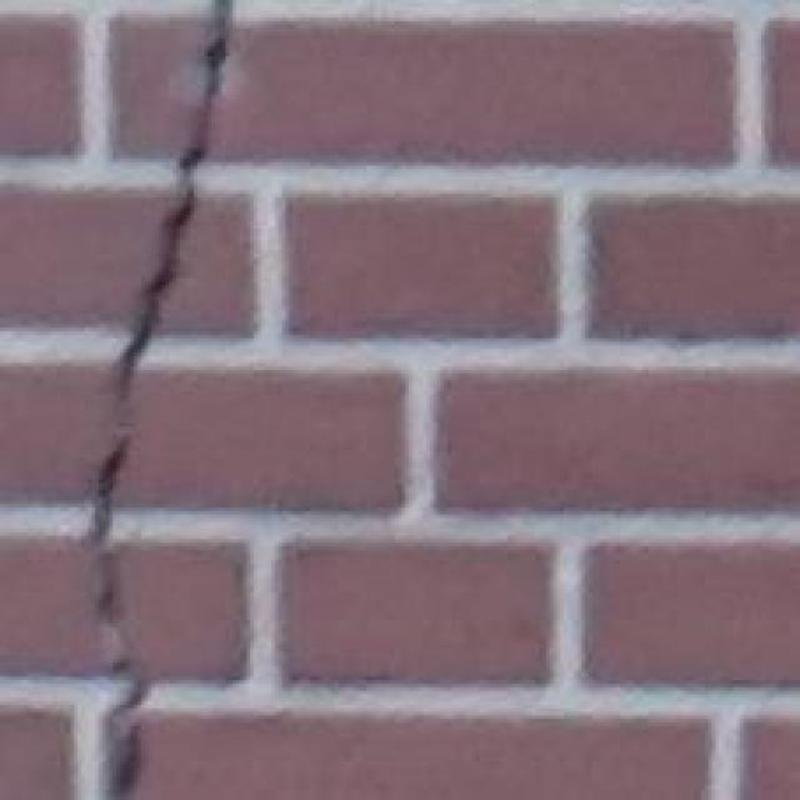pothole: (89, 0, 232, 799)
